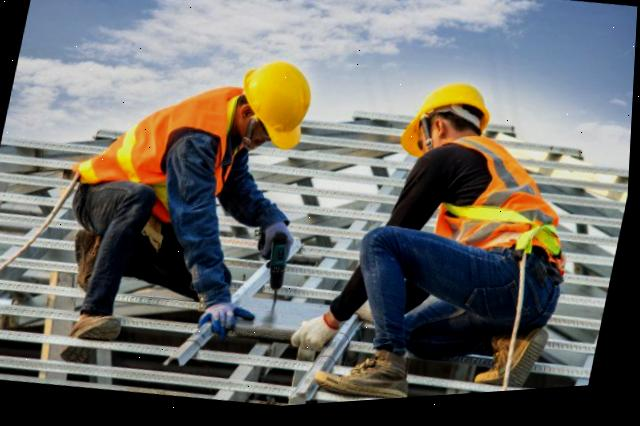helmet: (402, 74, 500, 171), (234, 61, 319, 157)
vest: (69, 65, 238, 212), (425, 137, 580, 280)
